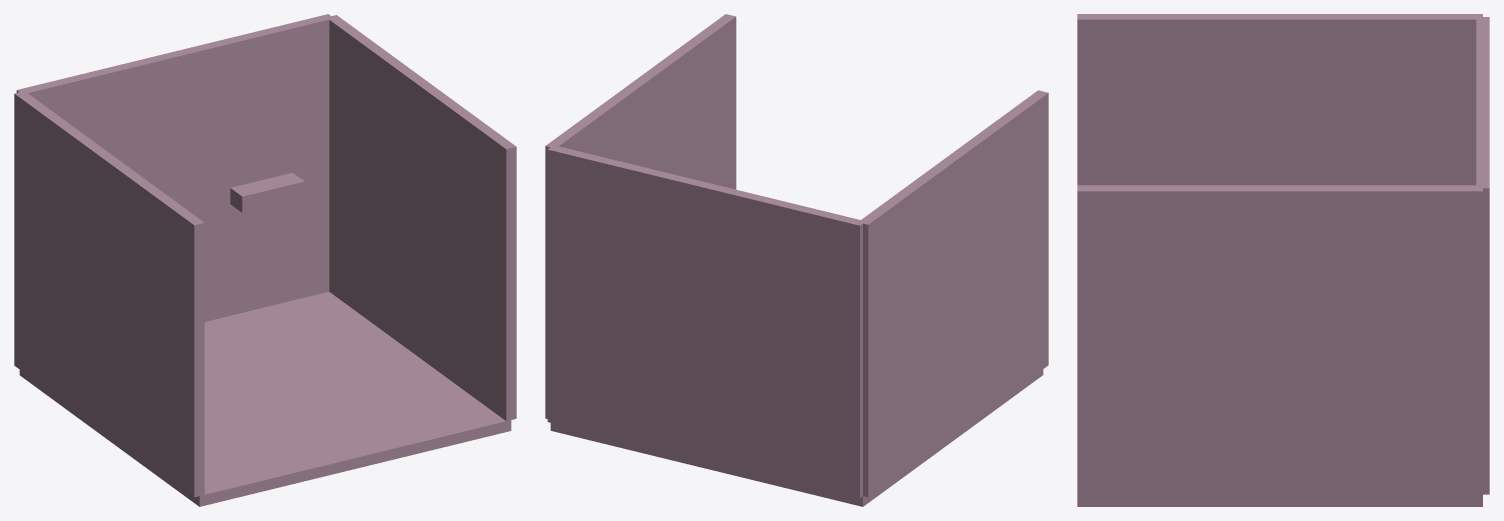
File: restricted-interior.glb
3 renders of one model, left to right at view 1: azimuth 30°, elevation 25°; view 2: azimuth 150°, elevation 25°; view 3: azimuth 270°, elevation 25°, orthographic. The views are drawn at different scales.
Parts seen in each view (by area): view 1: private-left, private-right, private-back, private-floor, private-shelf; view 2: private-back, private-left, private-right, private-floor; view 3: private-right, private-left, private-back, private-floor.
Boxes of the visible parts, <box> form: private-left: <box>14,91,204,497</box>; private-right: <box>327,15,516,421</box>; private-back: <box>16,14,333,321</box>; private-floor: <box>19,292,511,506</box>; private-shelf: <box>230,172,304,212</box>; private-back: <box>547,145,865,498</box>; private-left: <box>861,90,1048,497</box>; private-right: <box>545,14,736,418</box>; private-floor: <box>550,369,1043,506</box>; private-right: <box>1077,185,1482,497</box>; private-left: <box>1077,14,1482,185</box>; private-back: <box>1476,17,1489,494</box>; private-floor: <box>1077,497,1482,506</box>.
Bounding box in the file's own units: 3.1 × 2.6 × 3.05.
